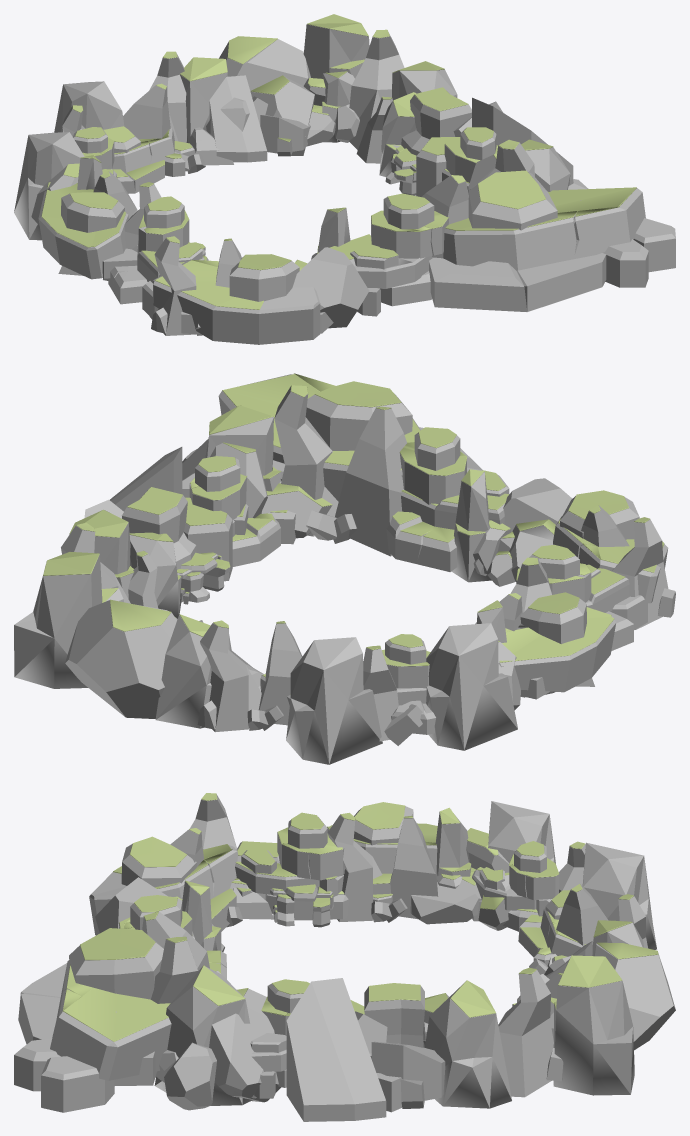
File: Rocky_Mountains.fbx
3 views of the same model, one above another, from view 1: azimuth 30°, elevation 25°; view 2: azimuth 150°, elevation 25°; view 3: azimuth 270°, elevation 25° (orthographic). The views are drawn at different scales.
Parts seen in each view (by area): view 1: Rock_Type1_02__3__001; view 2: Rock_Type1_02__3__001; view 3: Rock_Type1_02__3__001.
Part boxes in pixels (x1,y1,x2,y2): Rock_Type1_02__3__001: [14, 14, 675, 344]; Rock_Type1_02__3__001: [14, 373, 675, 764]; Rock_Type1_02__3__001: [14, 793, 675, 1121].
Bounding box in the file's own units: 10677 × 2678 × 11592.
